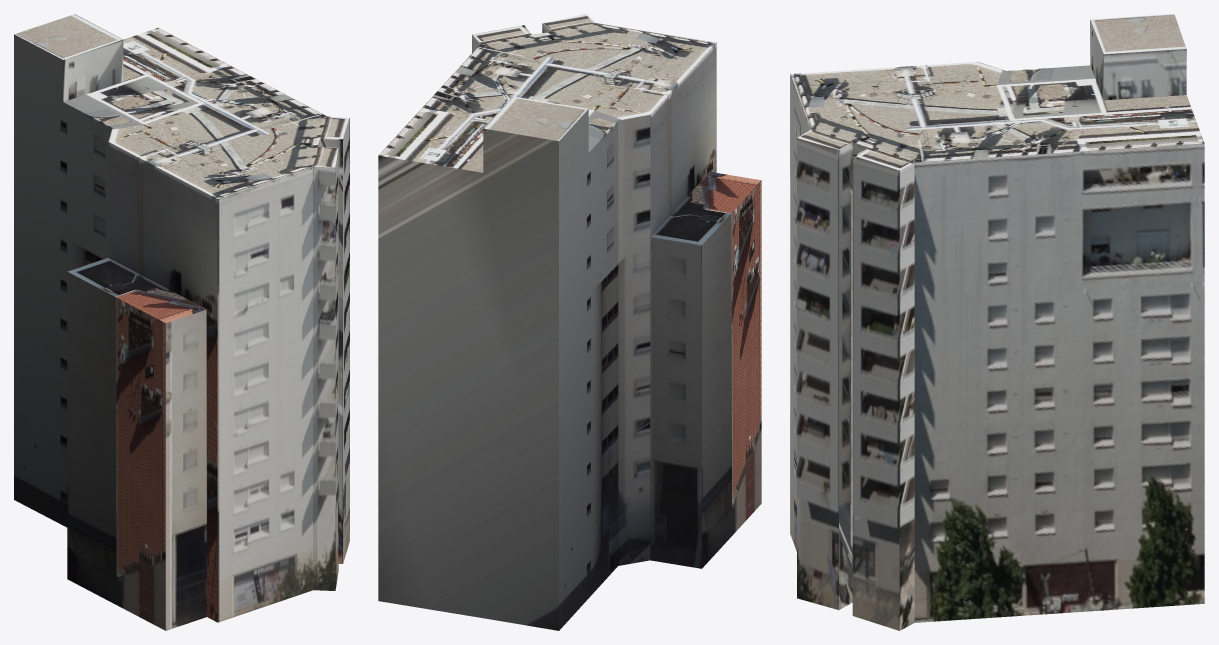
The picture shows the model from 3 angles, left to right: view 1: azimuth 30°, elevation 25°; view 2: azimuth 150°, elevation 25°; view 3: azimuth 270°, elevation 25°; orthographic projection. The views are drawn at different scales.
Visible parts, largest first — view 1: Z_UP; view 2: Z_UP; view 3: Z_UP.
Part boxes in pixels (x1,y1,x2,y2): Z_UP: [14, 14, 349, 630]; Z_UP: [378, 14, 761, 630]; Z_UP: [790, 14, 1204, 630].
Bounding box in the file's own units: 18.14 × 32.2 × 23.89.
2 materials, 1 textured.
